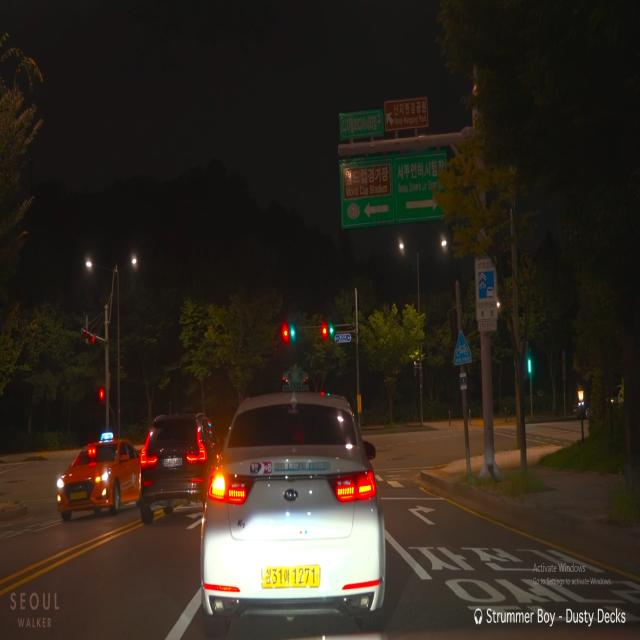headlights: (51, 468, 117, 503)
